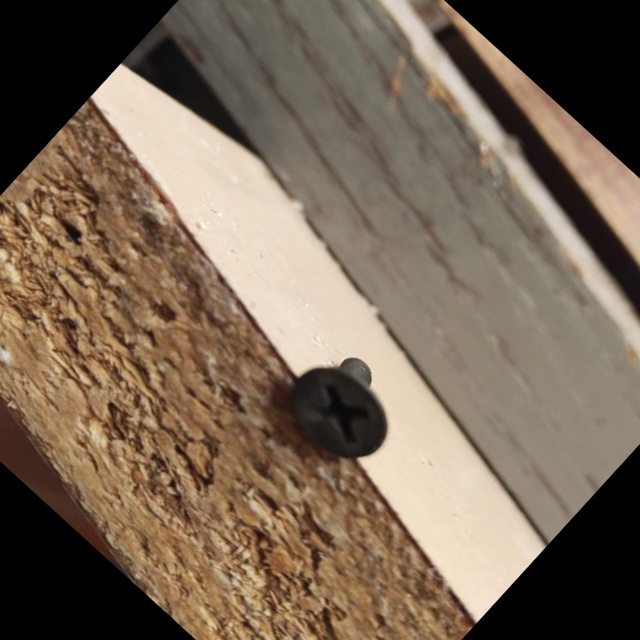phillips: (270, 347, 405, 481)
